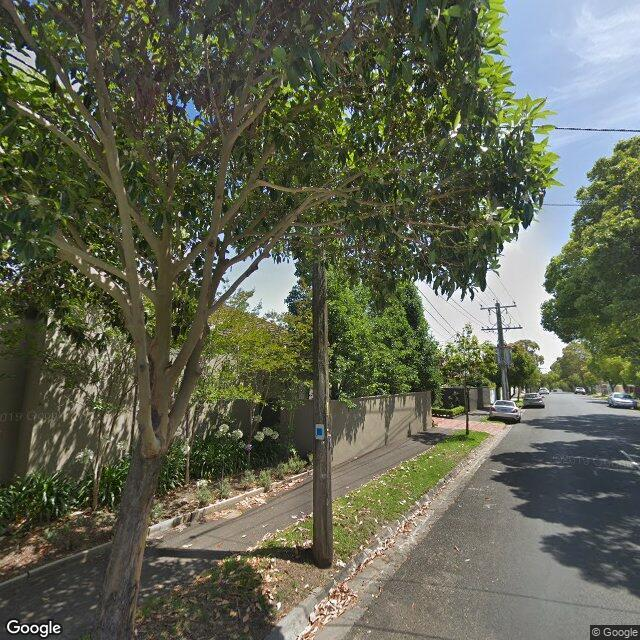HV-transmission: (480, 300, 516, 307)
crossarm: (480, 304, 517, 310), (481, 327, 523, 330)
timber-pole: (496, 303, 509, 400)
